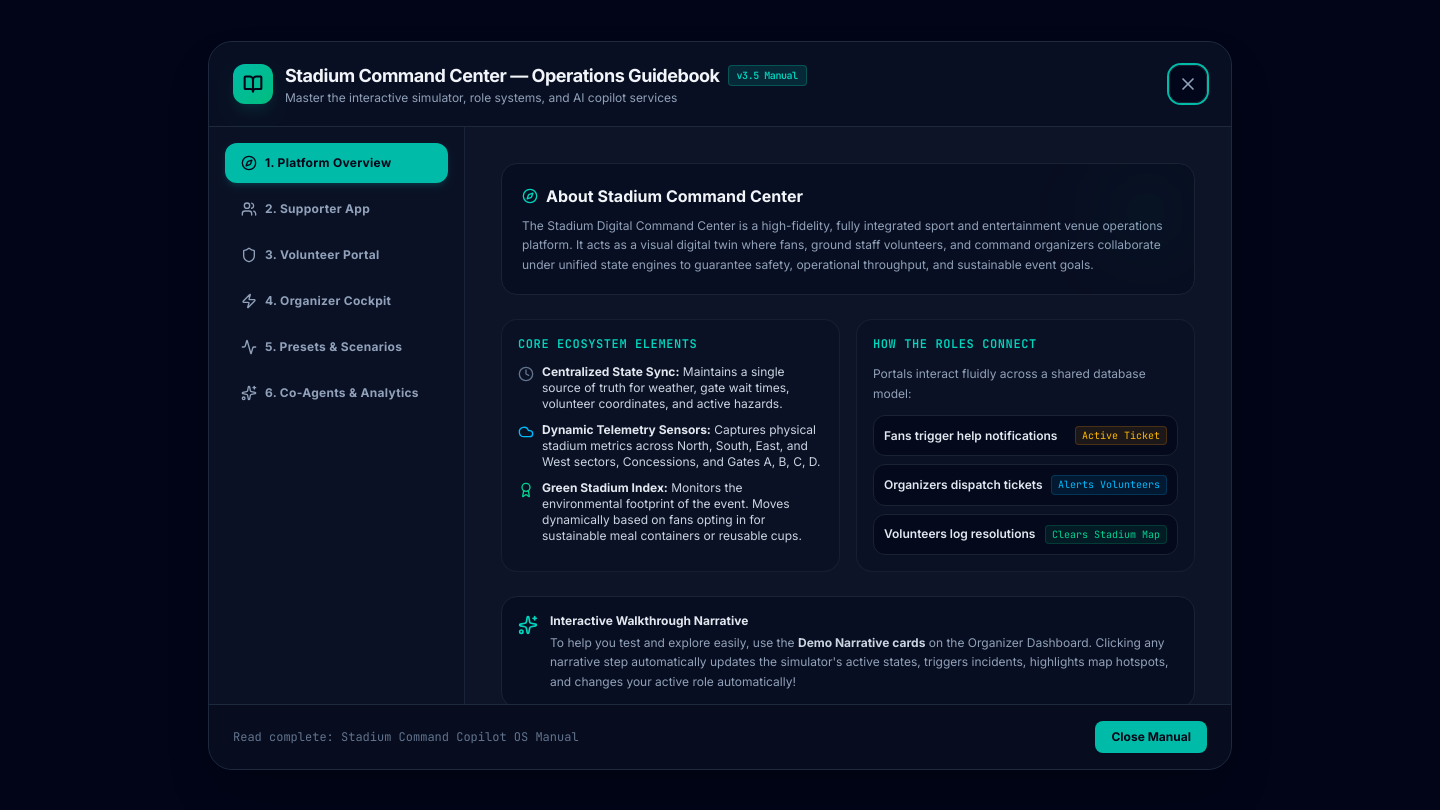
Scenario: AppGuidebook › allows navigating tabs inside the guidebook
Click 2. Supporter App tab
Step 1. Click the tab "2. Supporter App" → click(336, 208), box x1=225 y1=188 x2=448 y2=228
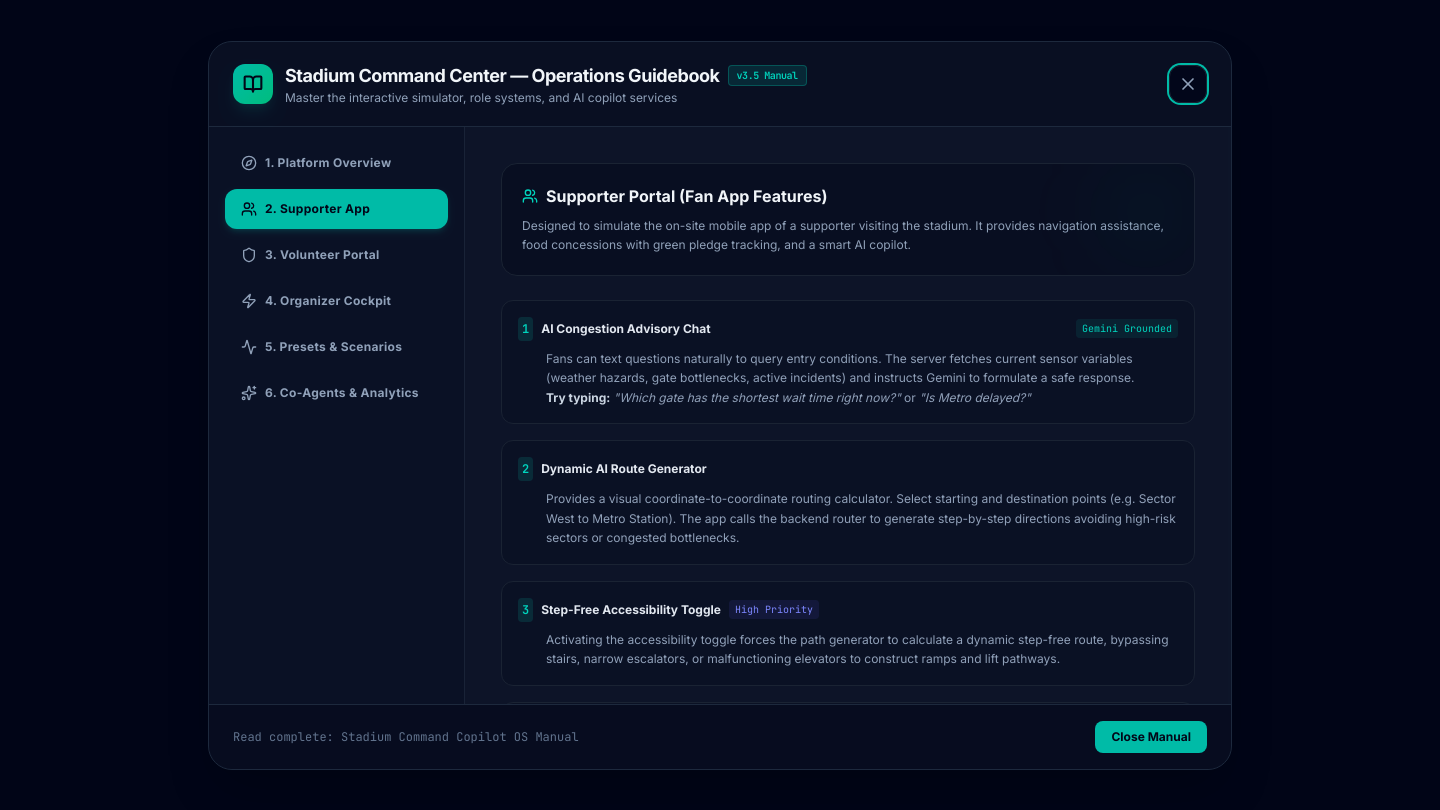
Expected: the heading "Supporter Portal (Fan App Features)" is shown, x1=522 y1=186 x2=828 y2=206
Click 3. Volunteer Portal tab
Step 2. Click the tab "3. Volunteer Portal" → click(336, 254), box x1=225 y1=234 x2=448 y2=274
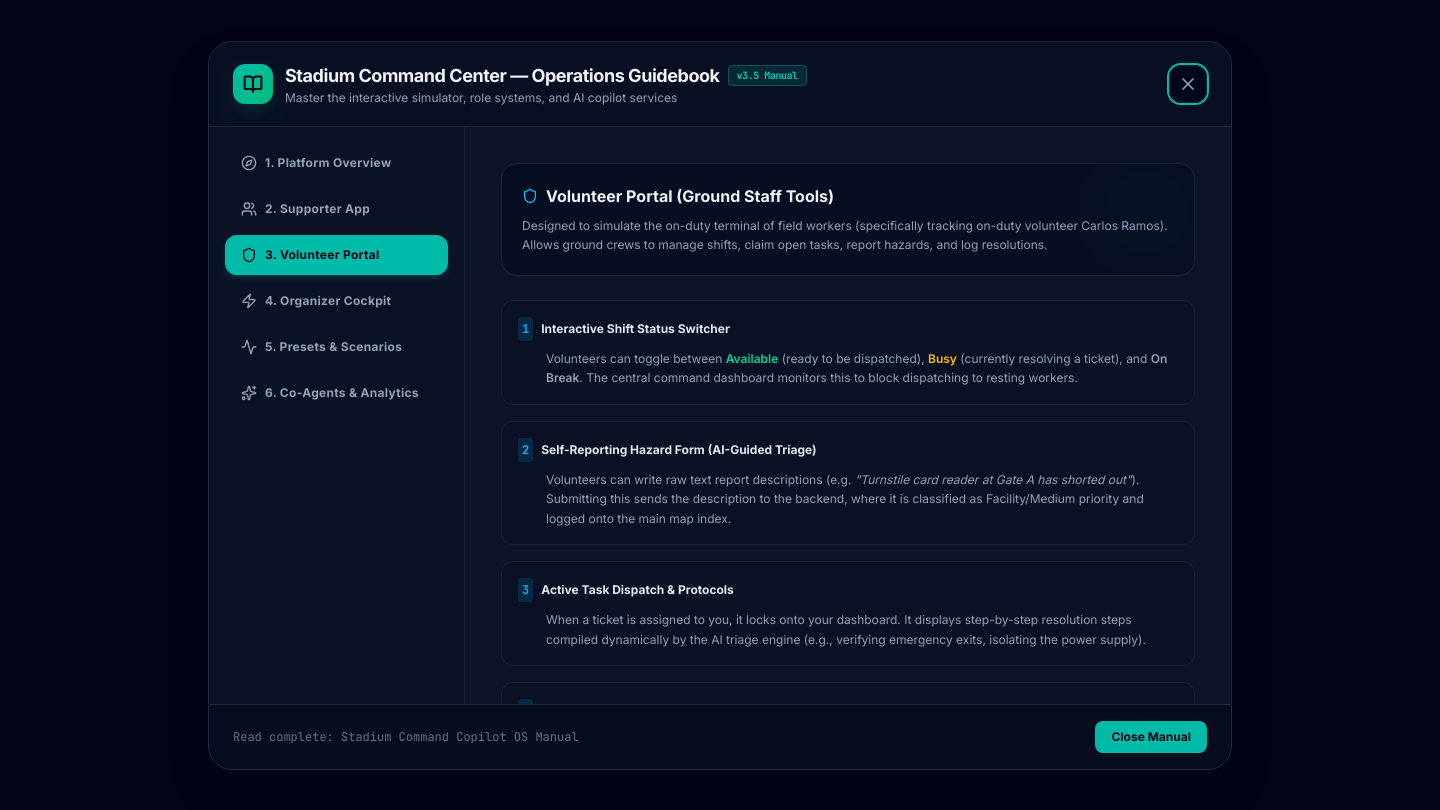
Expected: the heading "Volunteer Portal (Ground Staff Tools)" is shown, x1=522 y1=186 x2=834 y2=206
